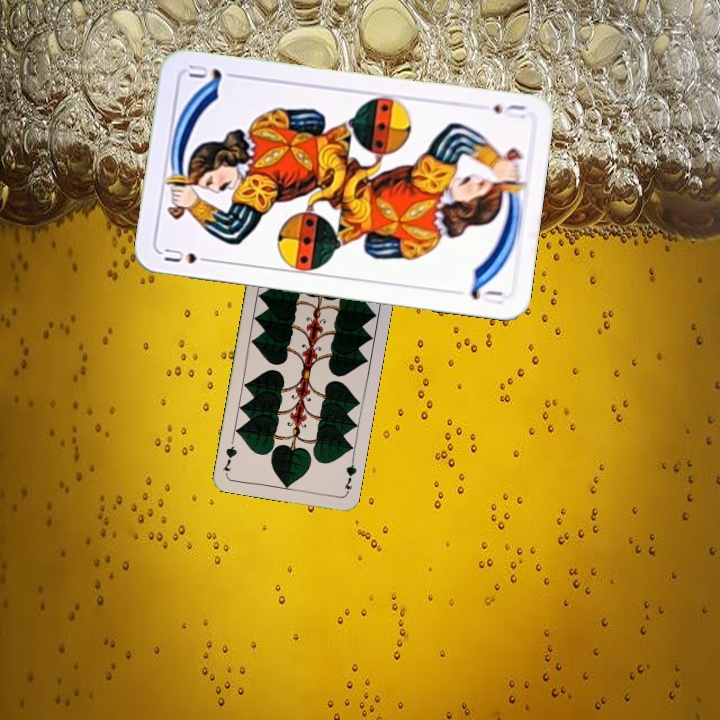G7: (340, 456, 359, 496)
SU: (160, 244, 217, 267), (489, 100, 529, 122)
